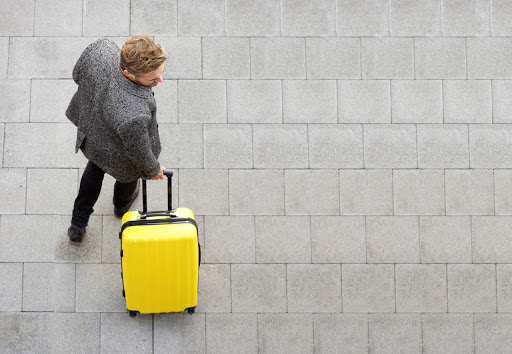luggage: (118, 173, 202, 320)
